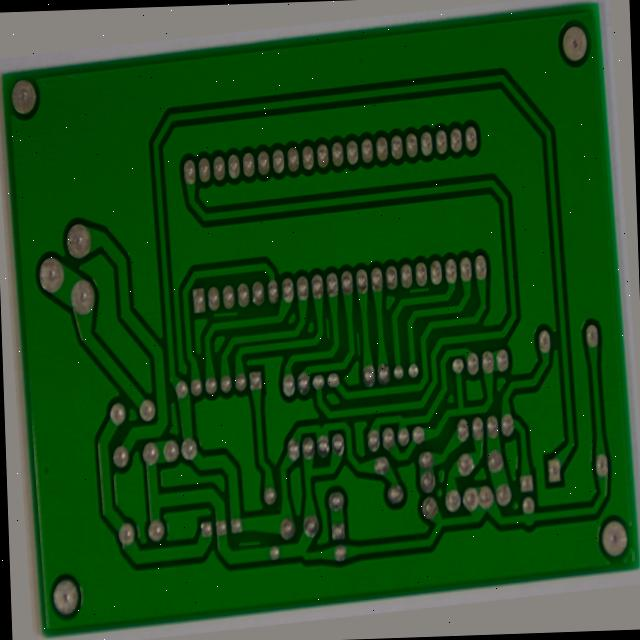spurious_copper: (204, 297, 239, 315), (222, 543, 253, 563), (320, 312, 335, 348), (407, 288, 435, 304), (350, 332, 363, 366)
